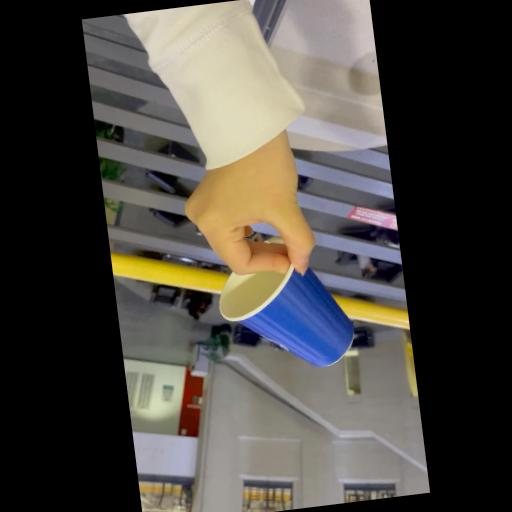lp_paper_cup: (208, 232, 368, 386)
